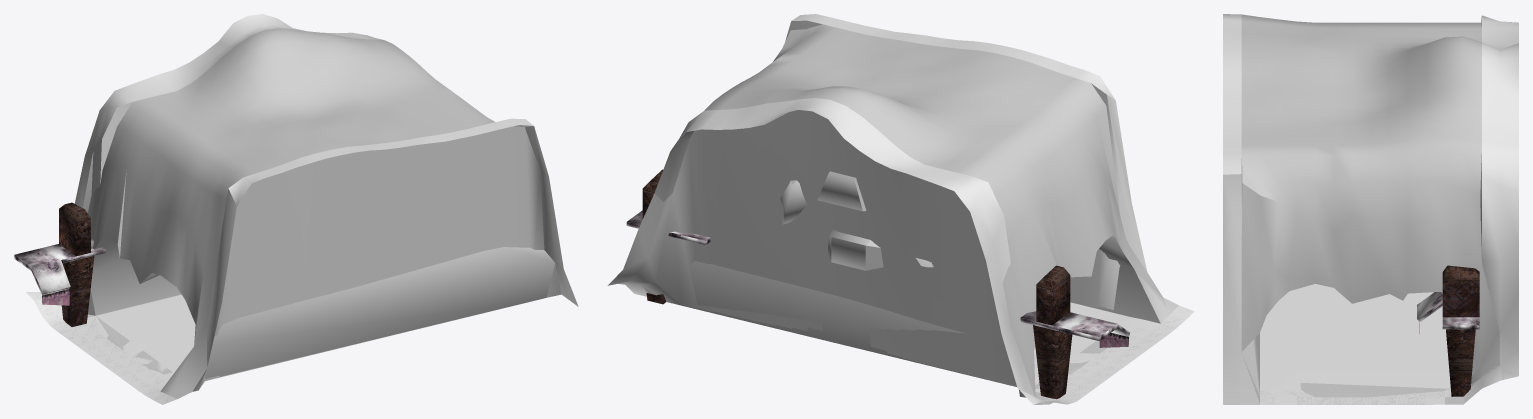
Rendered from betunn00.FBX.
The picture shows the model from 3 angles, left to right: view 1: azimuth 30°, elevation 25°; view 2: azimuth 150°, elevation 25°; view 3: azimuth 270°, elevation 25°; orthographic projection. The views are drawn at different scales.
Visible parts, largest first — view 1: terrain__h, terrain, obj1, cube2_2, grid11_2, entrance_b; view 2: terrain__h, terrain, obj1, cube4, grid11_2, entrance_b, cube2_2, sphere6; view 3: terrain, terrain__h, obj1, entrance_1, grid11_1, cube2_1.
Part boxes in pixels (x1=…): terrain__h: x1=26, y1=14, x2=578, y2=404; terrain: x1=35, y1=28, x2=540, y2=403; obj1: x1=76, y1=236, x2=558, y2=384; cube2_2: x1=14, y1=238, x2=105, y2=295; grid11_2: x1=61, y1=256, x2=94, y2=326; entrance_b: x1=59, y1=202, x2=90, y2=256; terrain__h: x1=607, y1=14, x2=1194, y2=404; terrain: x1=642, y1=24, x2=1191, y2=404; obj1: x1=671, y1=234, x2=1160, y2=398; cube4: x1=817, y1=171, x2=883, y2=270; grid11_2: x1=1033, y1=325, x2=1072, y2=399; entrance_b: x1=1036, y1=265, x2=1070, y2=325; cube2_2: x1=1020, y1=311, x2=1129, y2=340; sphere6: x1=780, y1=180, x2=806, y2=224; terrain: x1=1241, y1=14, x2=1513, y2=383; terrain__h: x1=1223, y1=14, x2=1518, y2=404; obj1: x1=1249, y1=373, x2=1463, y2=404; entrance_1: x1=1442, y1=265, x2=1479, y2=317; grid11_1: x1=1446, y1=329, x2=1475, y2=396; cube2_1: x1=1417, y1=292, x2=1479, y2=329.
Bounding box in the file's own units: 240 × 128 × 123.
